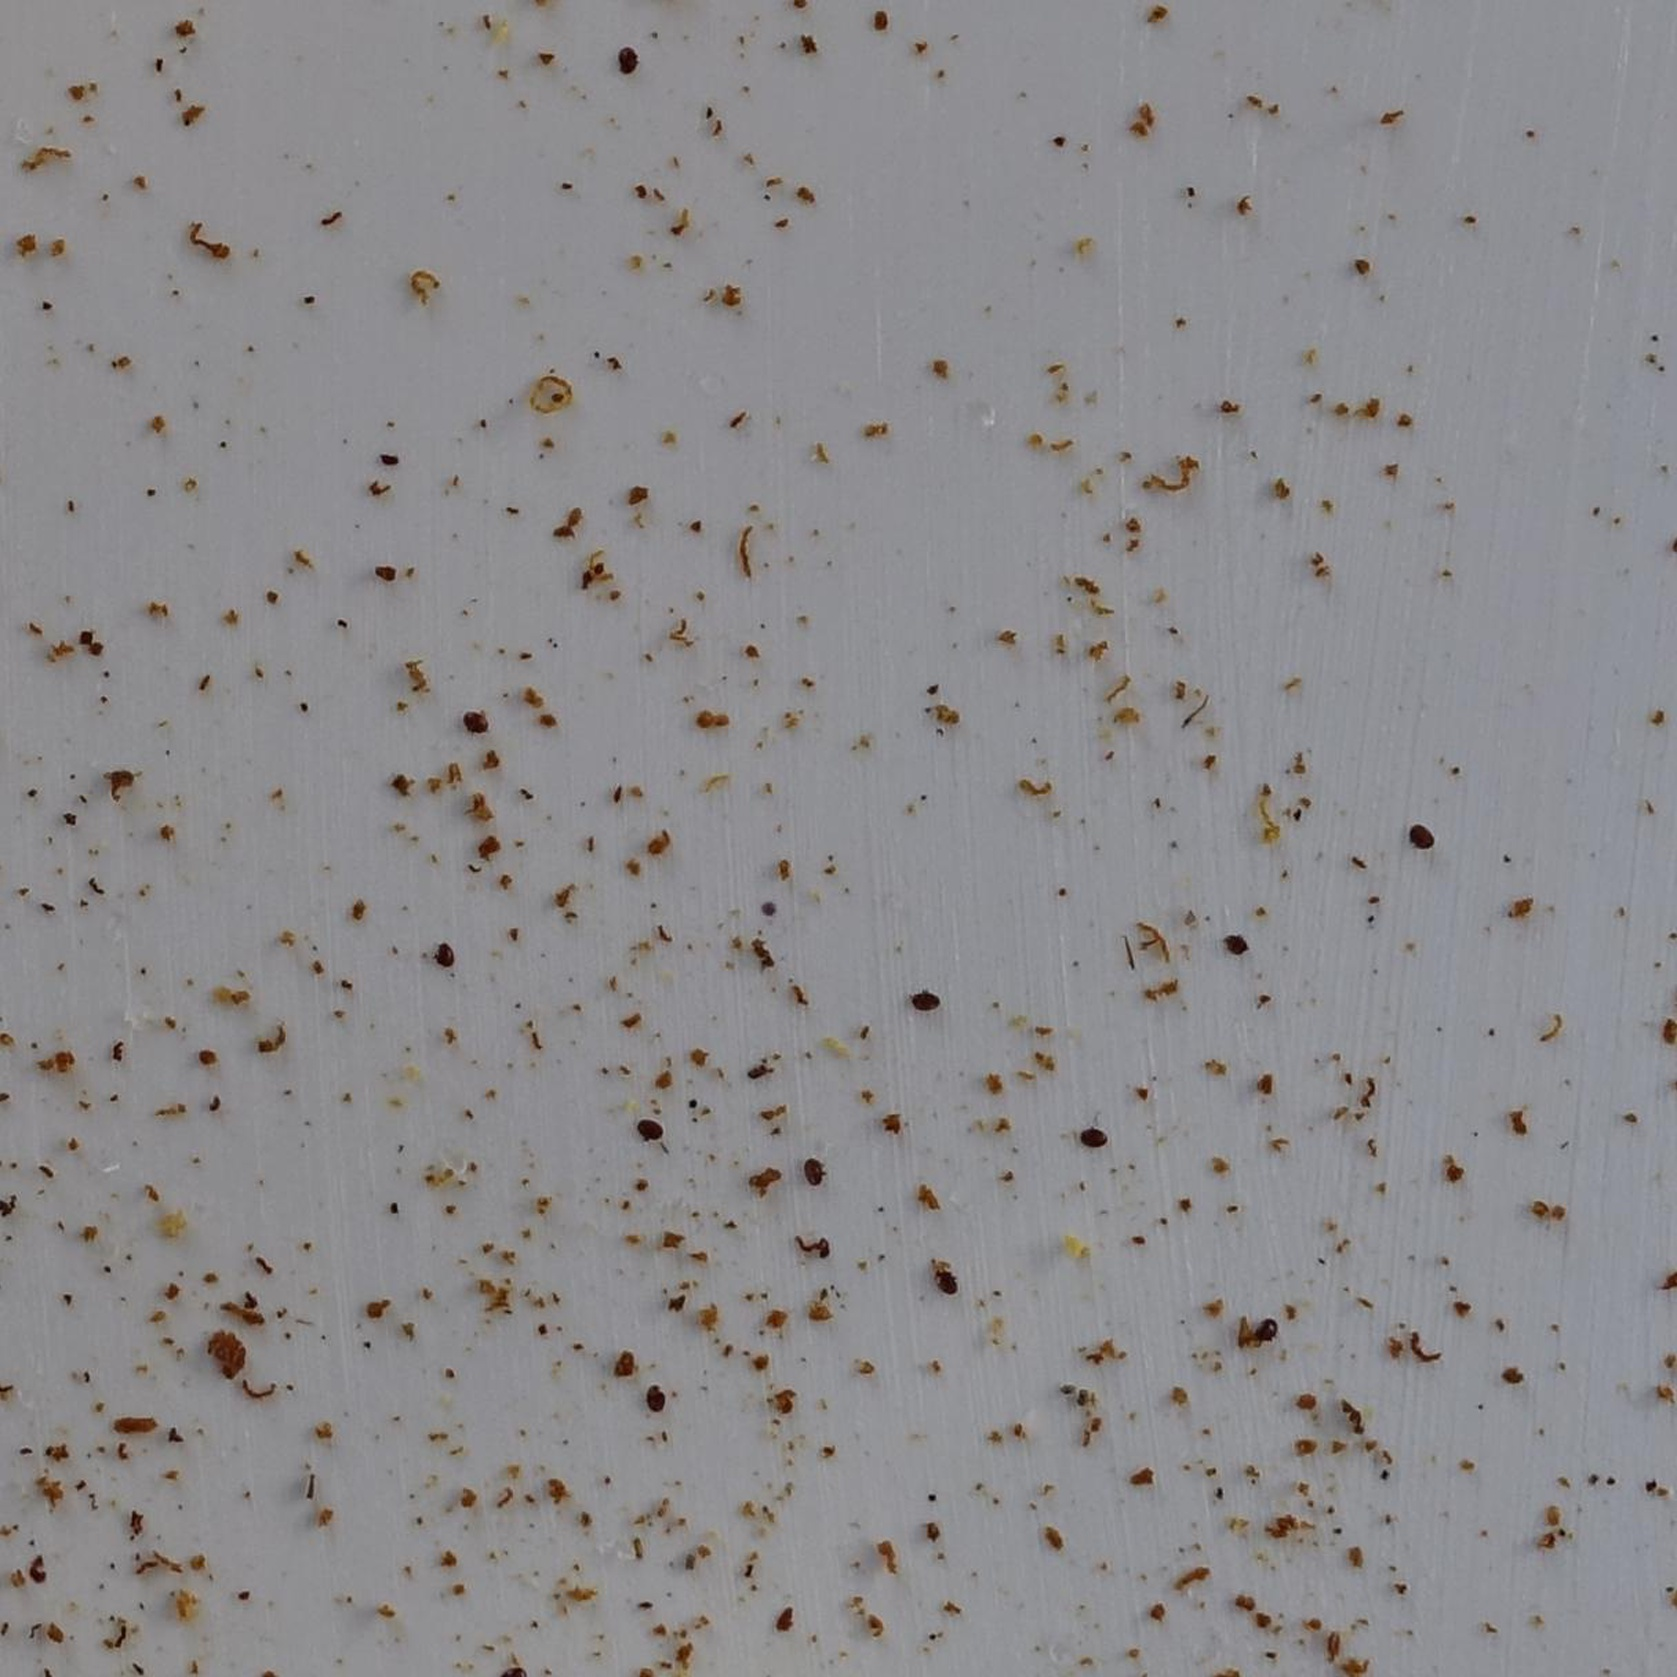Varroa: (928, 1262, 971, 1305), (1253, 1311, 1282, 1341), (613, 48, 640, 75), (909, 987, 935, 1015), (430, 940, 456, 968), (461, 709, 485, 737), (636, 1120, 660, 1147), (642, 1384, 666, 1410), (1408, 822, 1431, 846), (1083, 1121, 1106, 1146), (805, 1163, 826, 1186)
